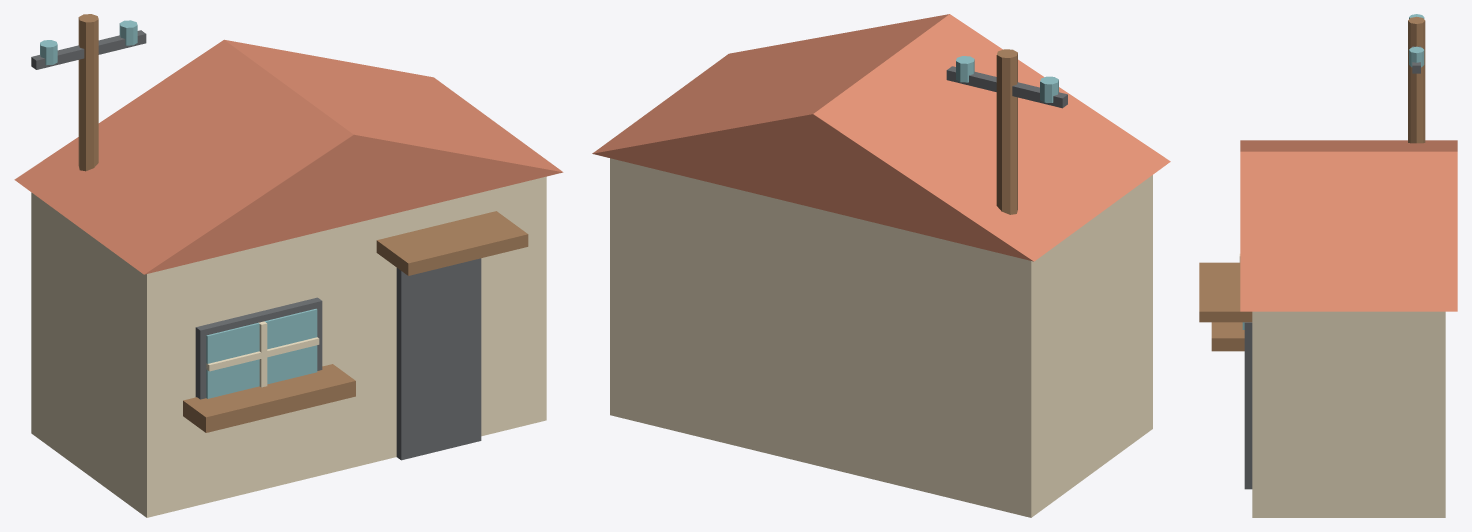
The model's file is frontier-telegraph-office__126.glb.
3 views of the same model, side by side, from view 1: azimuth 30°, elevation 25°; view 2: azimuth 150°, elevation 25°; view 3: azimuth 270°, elevation 25° (orthographic). The views are drawn at different scales.
Visible parts, largest first — view 1: frontier-post-telegraph-office; view 2: frontier-post-telegraph-office; view 3: frontier-post-telegraph-office.
Boxes of the visible parts, bbox=[...] form: frontier-post-telegraph-office: bbox=[14, 14, 563, 517]; frontier-post-telegraph-office: bbox=[592, 14, 1170, 517]; frontier-post-telegraph-office: bbox=[1199, 14, 1457, 517].
Size of the model in its own units: 4.25 by 4 by 2.67.
